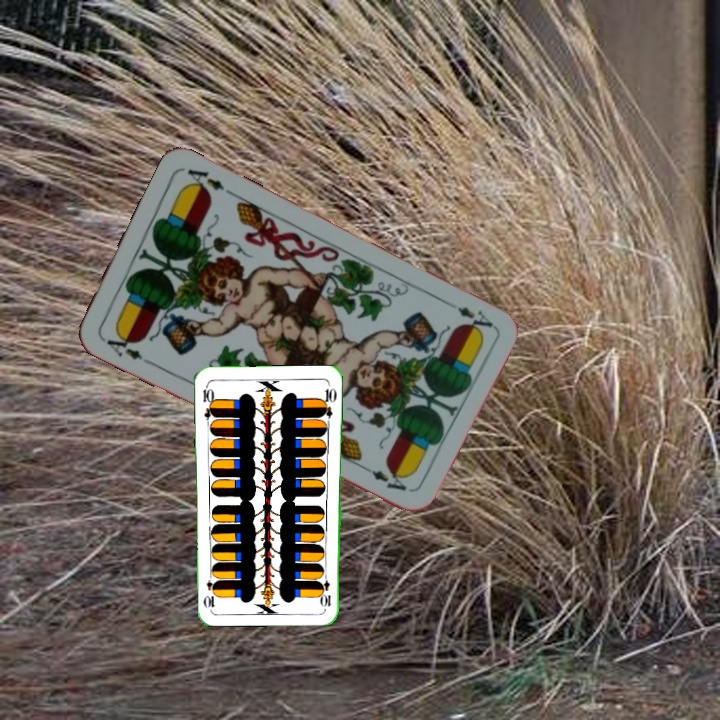E10: (198, 381, 217, 421), (319, 569, 334, 609)
EA: (441, 297, 496, 336), (97, 327, 145, 363)
